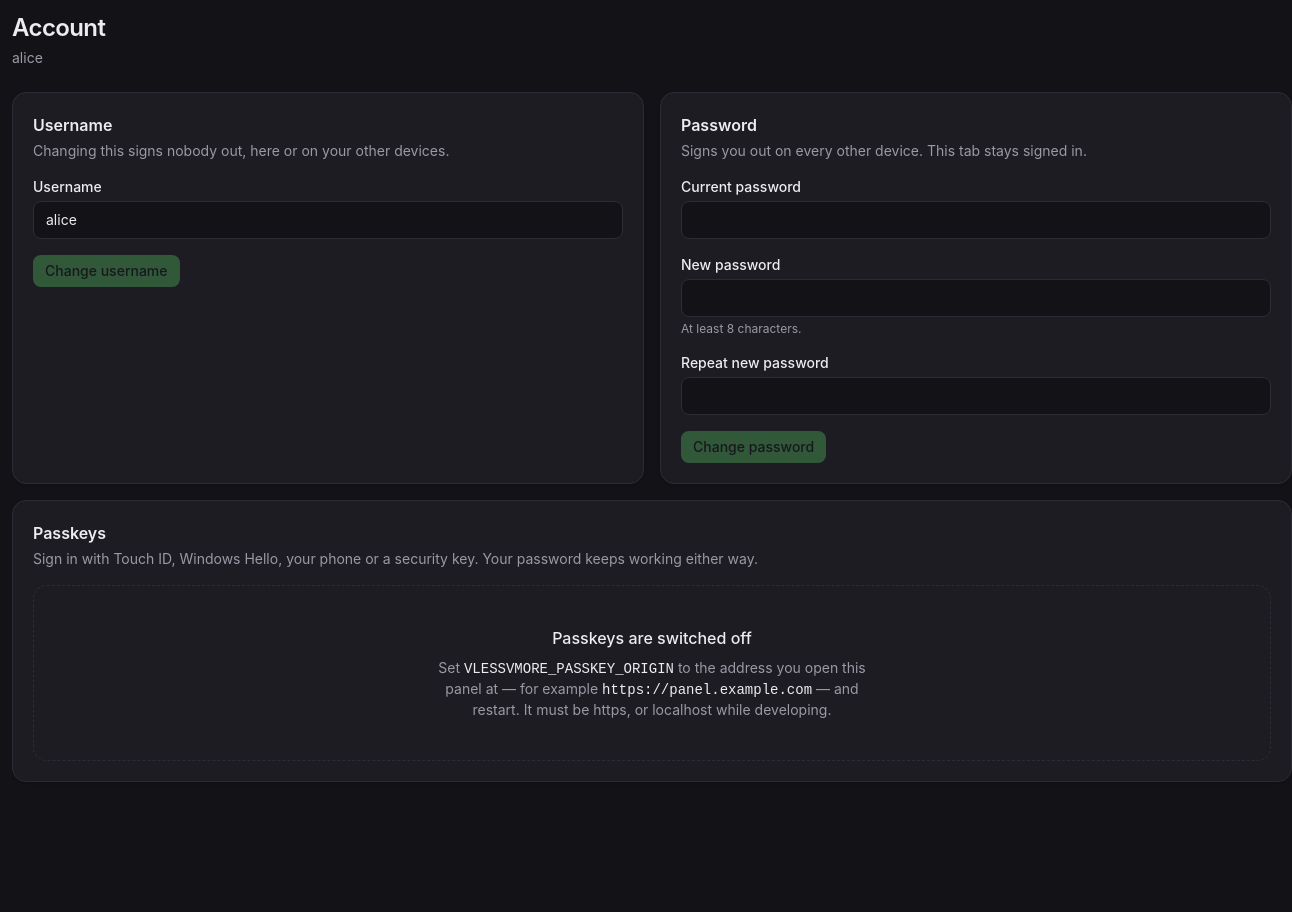
Test: AccountPage › reports a wrong current password without clearing what was typed
Expected: the heading "Account" is shown, [12, 12, 105, 44]
Type "notitnotit" into the password field labelled "Current password".
click(976, 220); type("notitnotit")  # box [681, 201, 1271, 239]
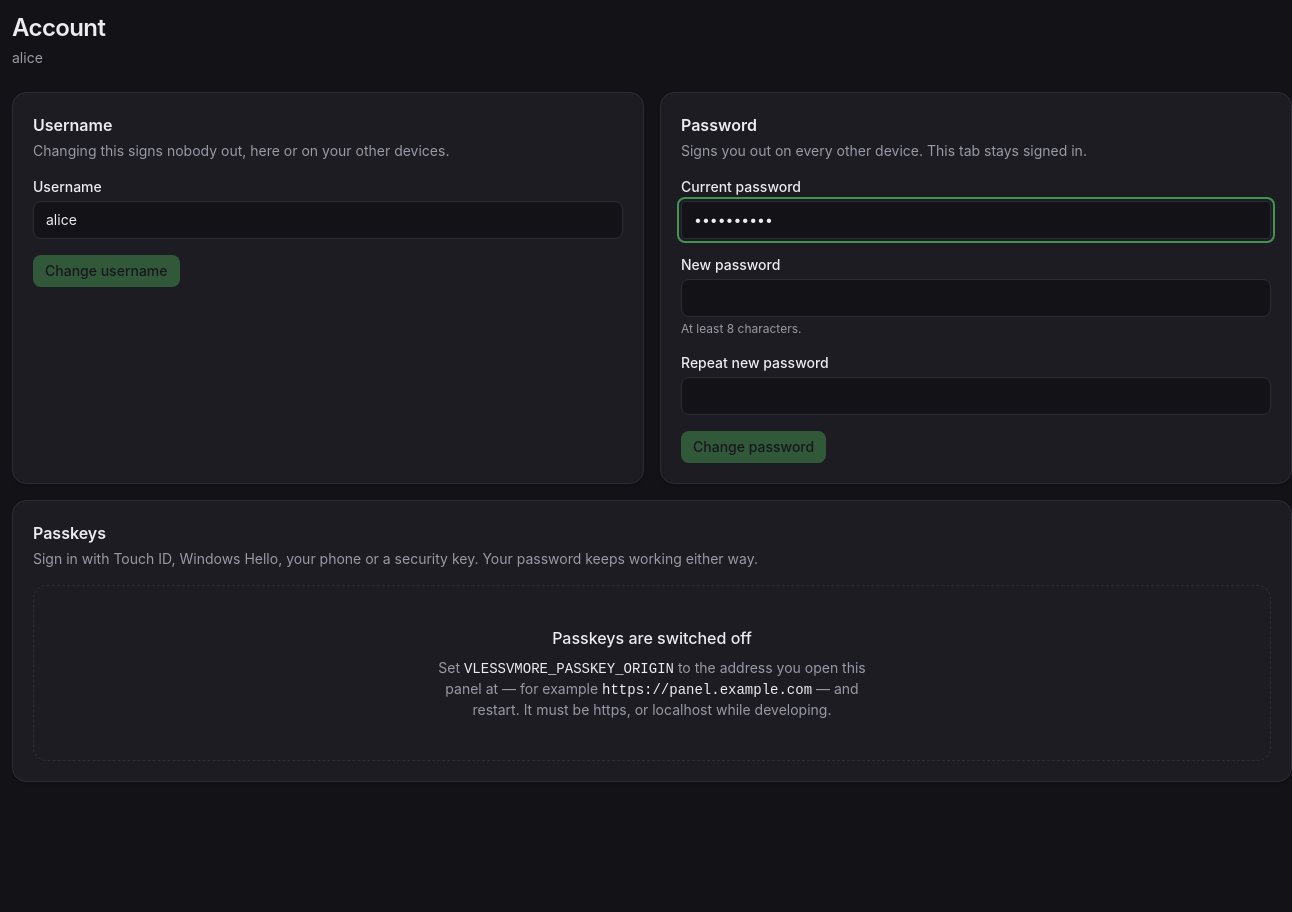
Type "brandnewpassword" into the password field labelled "New password At least 8 characters.".
click(976, 298); type("brandnewpassword")  # box [681, 279, 1271, 317]
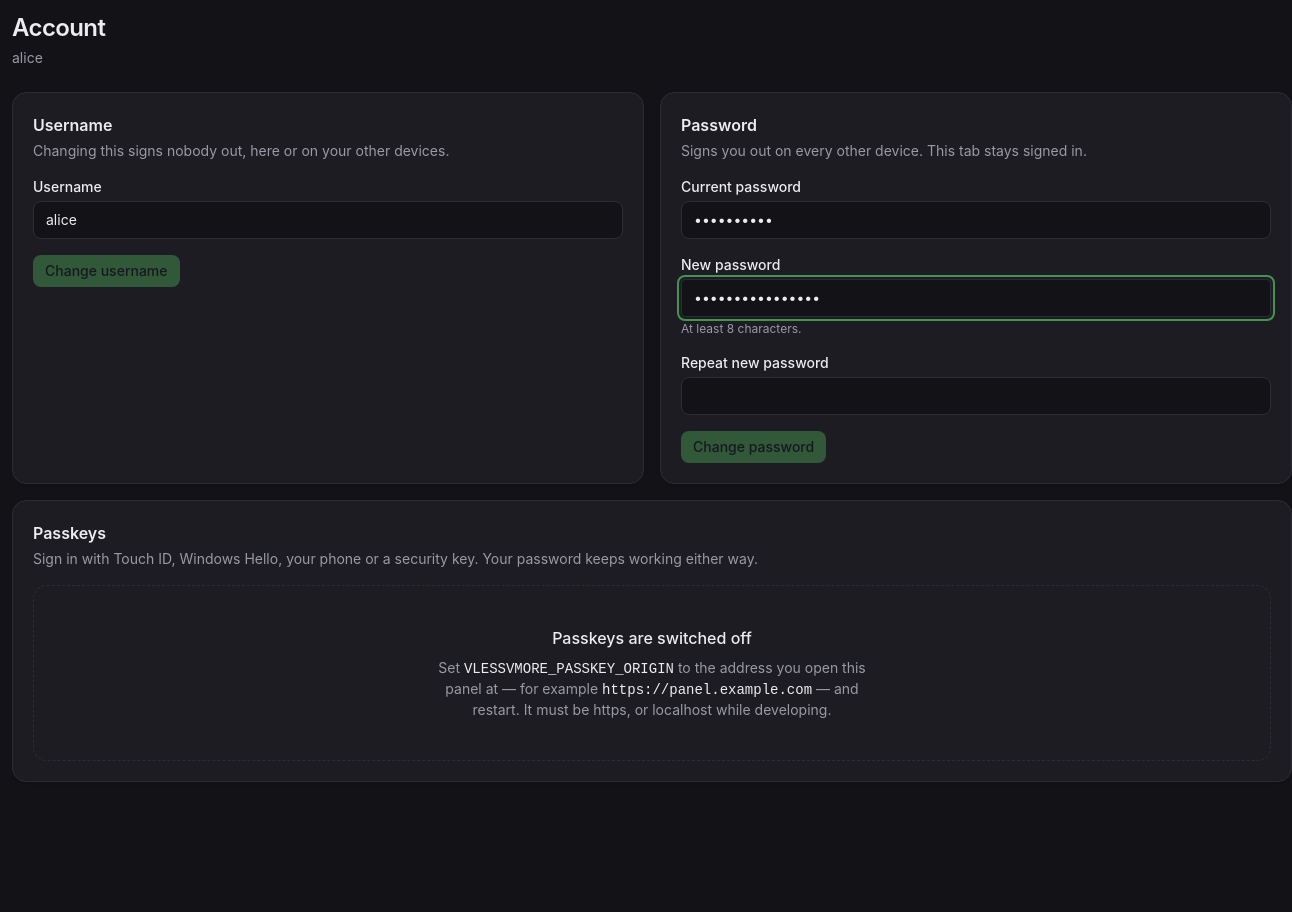
Type "brandnewpassword" into the password field labelled "Repeat new password".
click(976, 396); type("brandnewpassword")  # box [681, 377, 1271, 415]
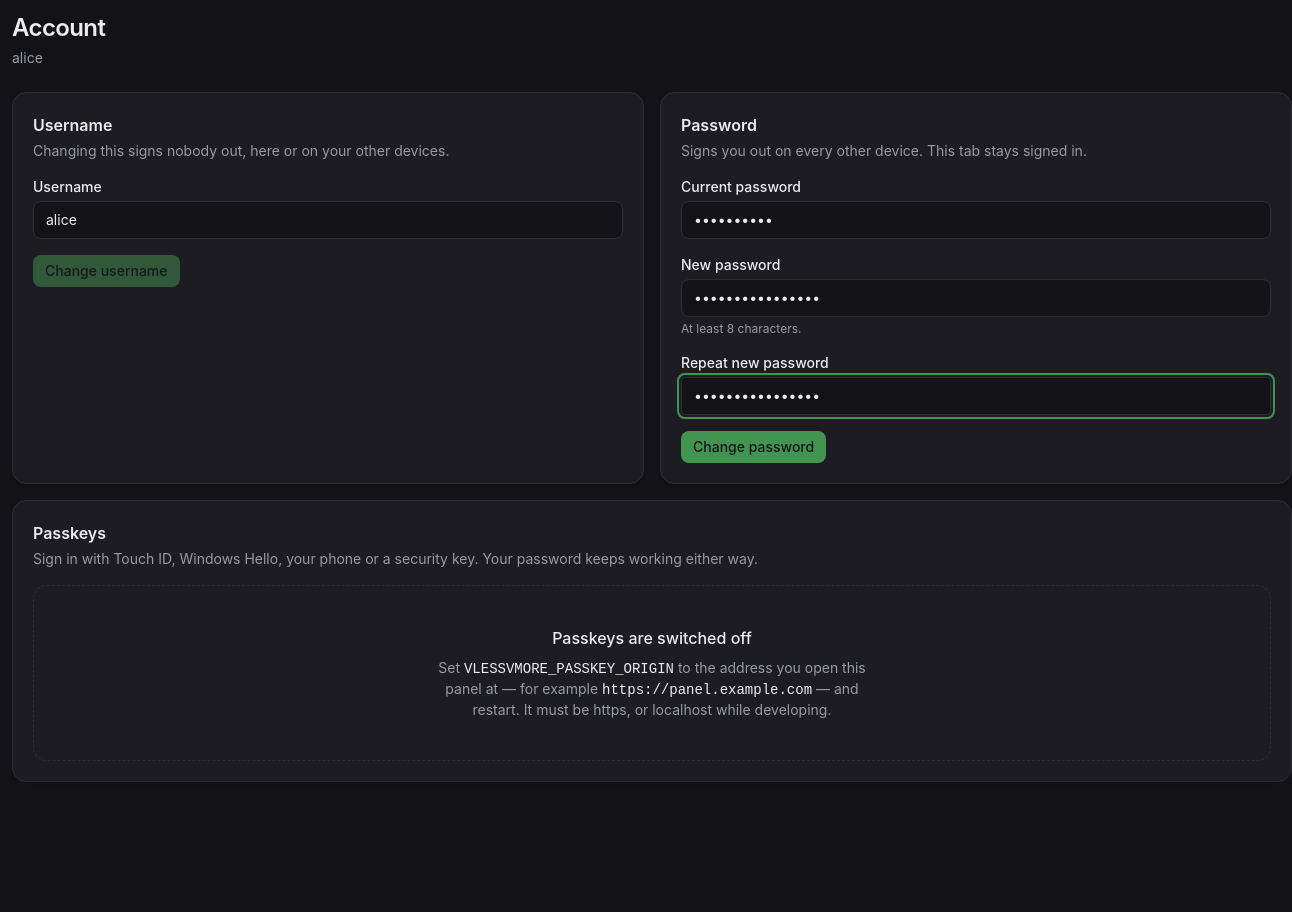
Click the button "Change password".
click(754, 447)  # box [681, 431, 826, 463]
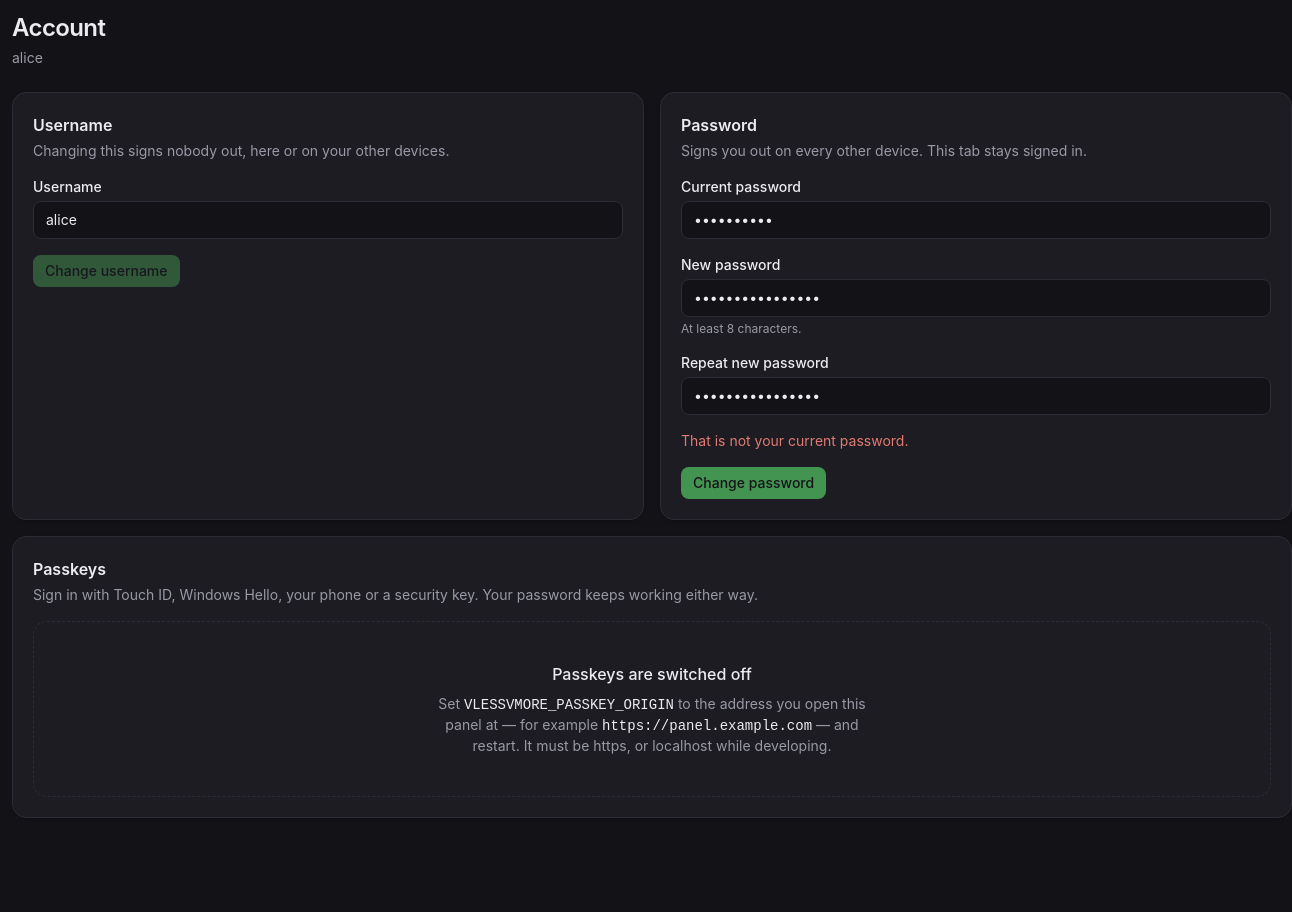
Result: the text "That is not your current password." is shown at [681, 432, 908, 449]
